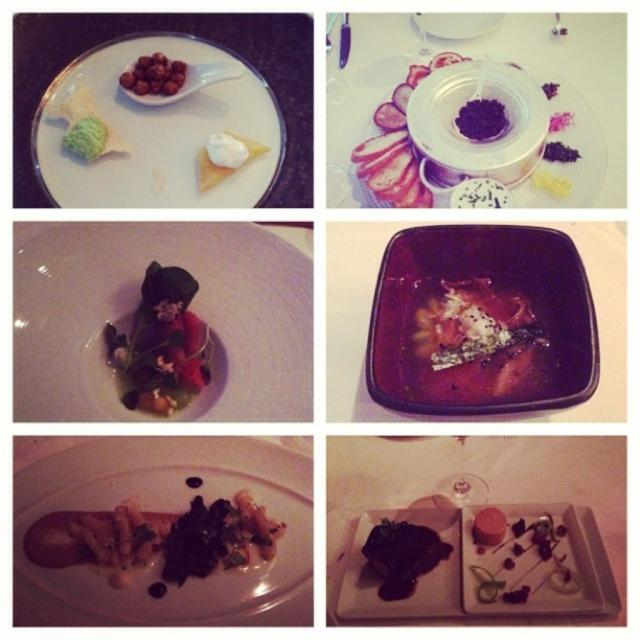non-organic waste: (7, 434, 377, 636), (346, 27, 608, 224), (36, 41, 286, 234), (341, 468, 640, 620)
